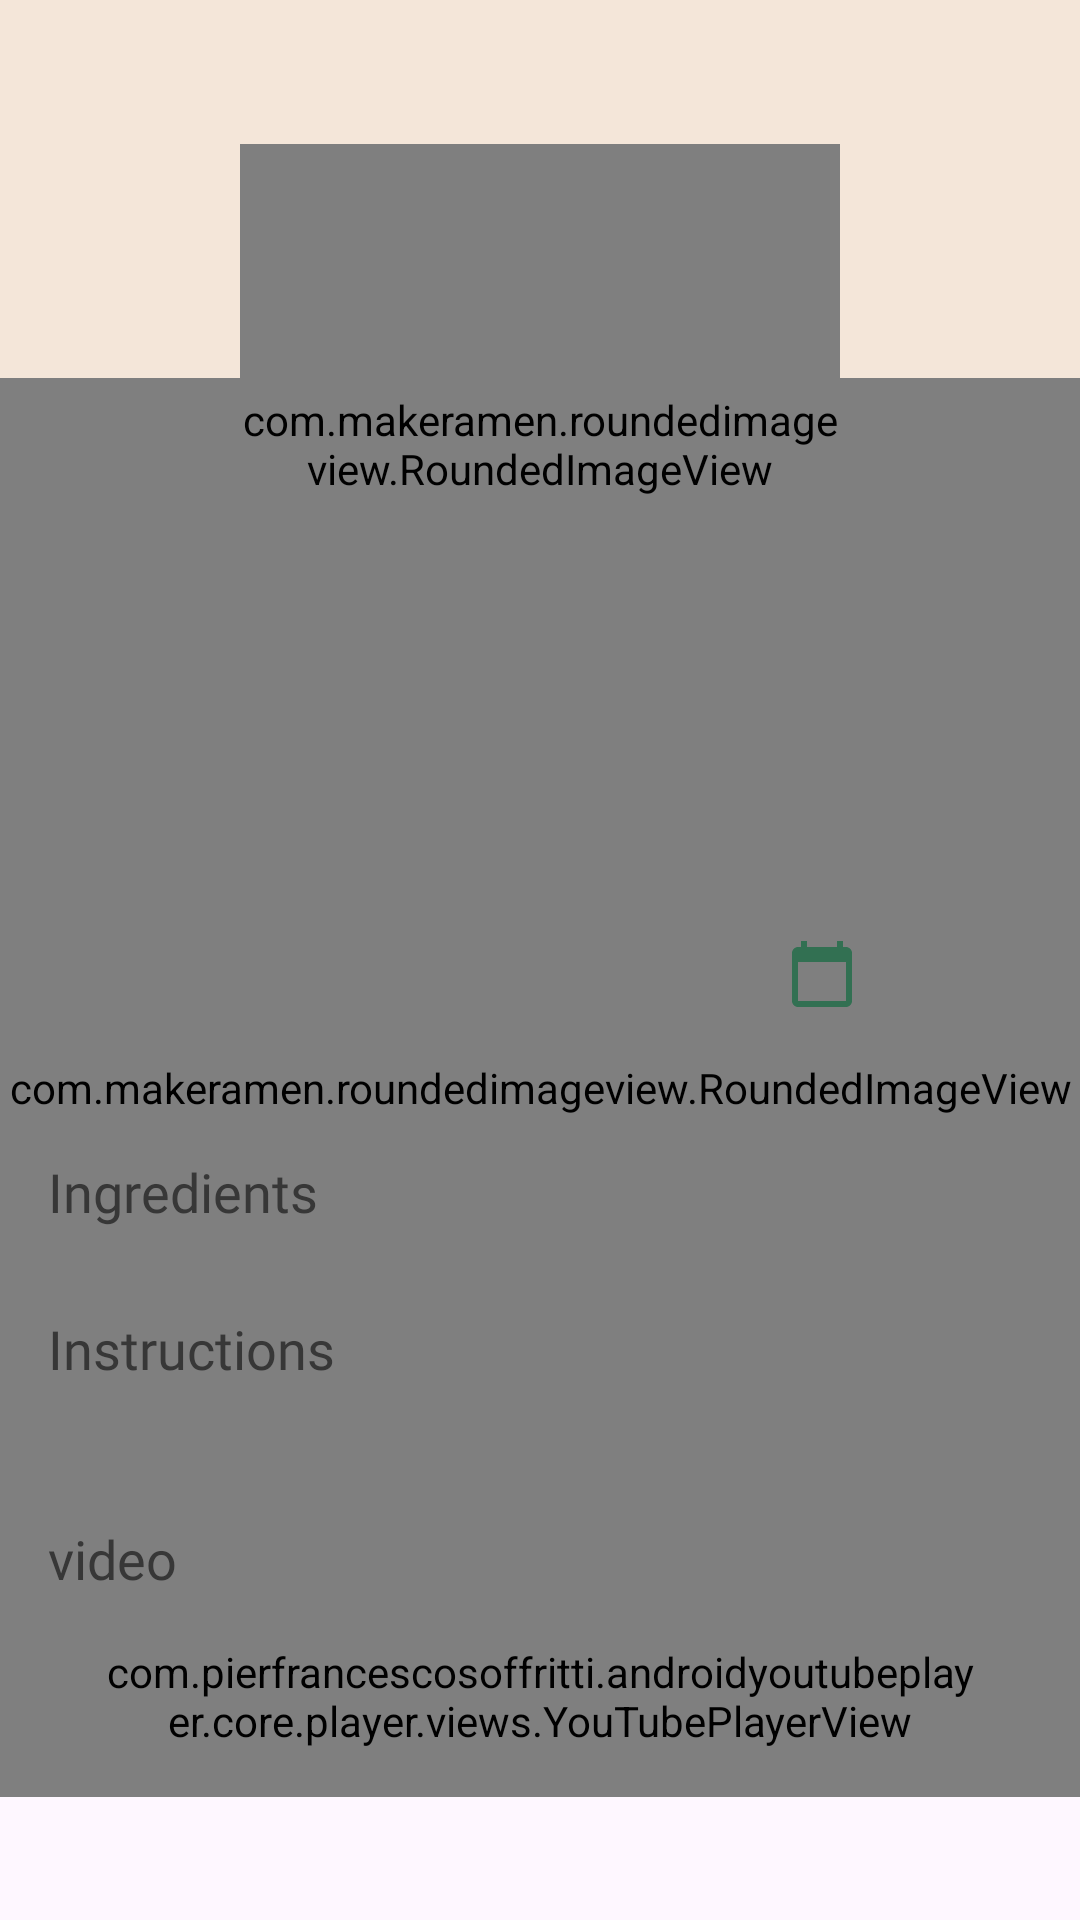

Named icons in this screenshot (1080×1920) and their centers, point (x, y):
calendar today: point (822, 974)
